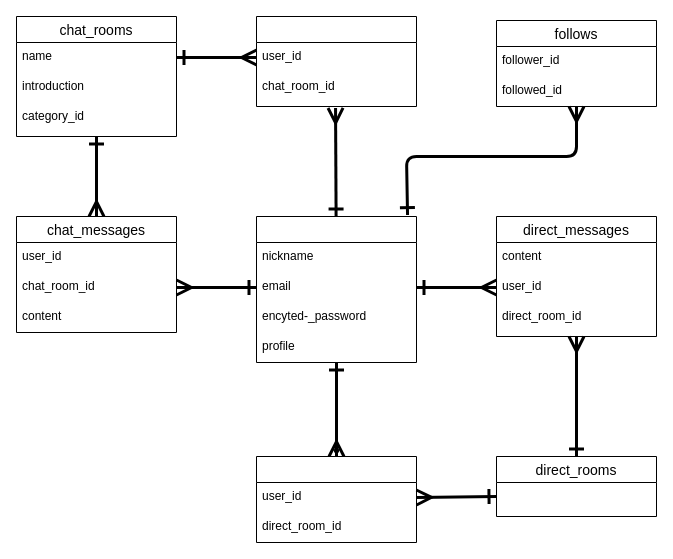
Image size: 673x559. Some labels were removed from this diagram. Each missing label, with the box of its shape:
chat_room_users: (256, 16, 416, 106)
direct_room_users: (256, 456, 416, 542)
users: (256, 216, 416, 362)
